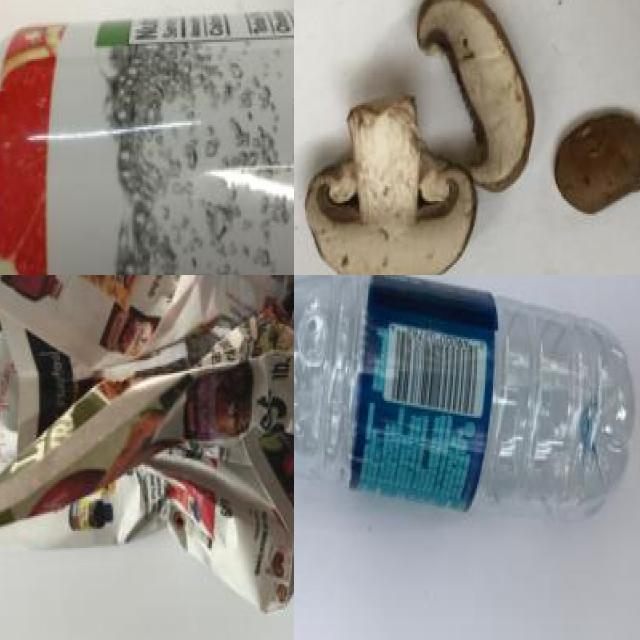compost: (300, 0, 640, 275)
paper: (0, 275, 294, 622)
plastic: (294, 275, 640, 547), (0, 14, 294, 275)
